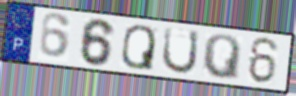6: (38, 11, 73, 64), (80, 17, 115, 68), (247, 36, 281, 86)
Q: (201, 33, 242, 83), (119, 23, 157, 72)
U: (159, 25, 201, 76)
